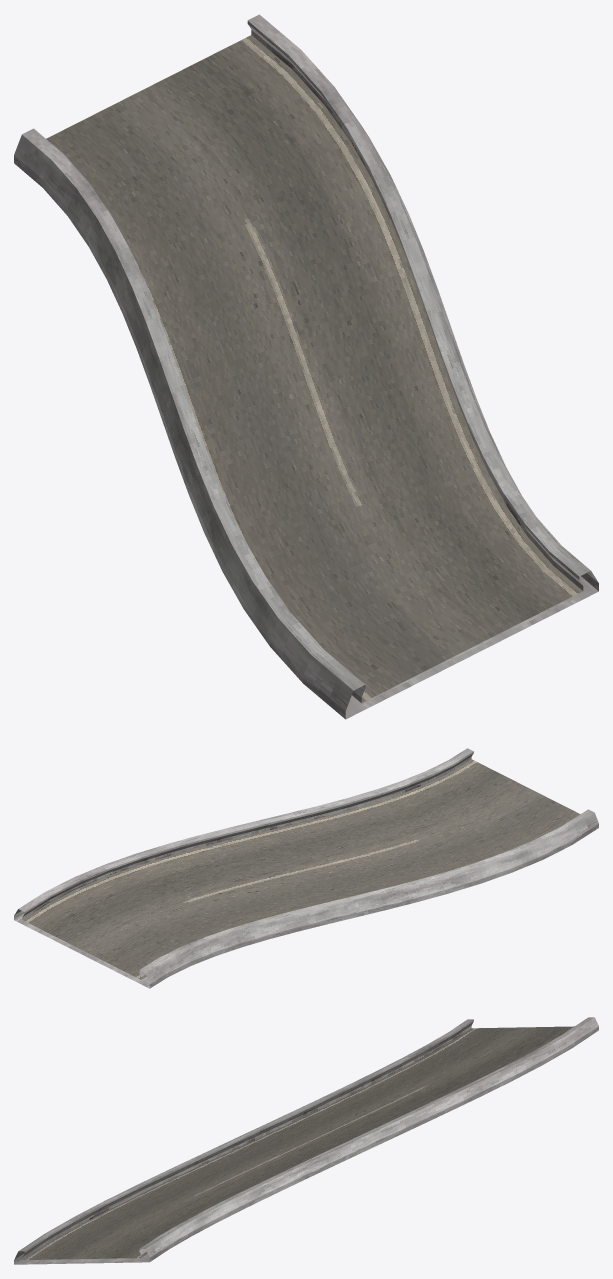
File: chicane-right1x4.glb
The picture shows the model from 3 angles, top to bottom: view 1: azimuth 30°, elevation 25°; view 2: azimuth 150°, elevation 25°; view 3: azimuth 330°, elevation 25°; orthographic projection. The views are drawn at different scales.
Parts seen in each view (by area): view 1: road-Chicane-HalfBankedLeft-HalfBankedLeft-Up1-Right1-Size4; view 2: road-Chicane-HalfBankedLeft-HalfBankedLeft-Up1-Right1-Size4; view 3: road-Chicane-HalfBankedLeft-HalfBankedLeft-Up1-Right1-Size4.
Part boxes in pixels (box(x1,y1,x2,y2)): road-Chicane-HalfBankedLeft-HalfBankedLeft-Up1-Right1-Size4: box(14, 14, 598, 719); road-Chicane-HalfBankedLeft-HalfBankedLeft-Up1-Right1-Size4: box(14, 748, 598, 988); road-Chicane-HalfBankedLeft-HalfBankedLeft-Up1-Right1-Size4: box(14, 1017, 598, 1264).
Size of the model in its own units: 2 by 0.5859 by 4.
Materials: 2 (2 with a texture image).
